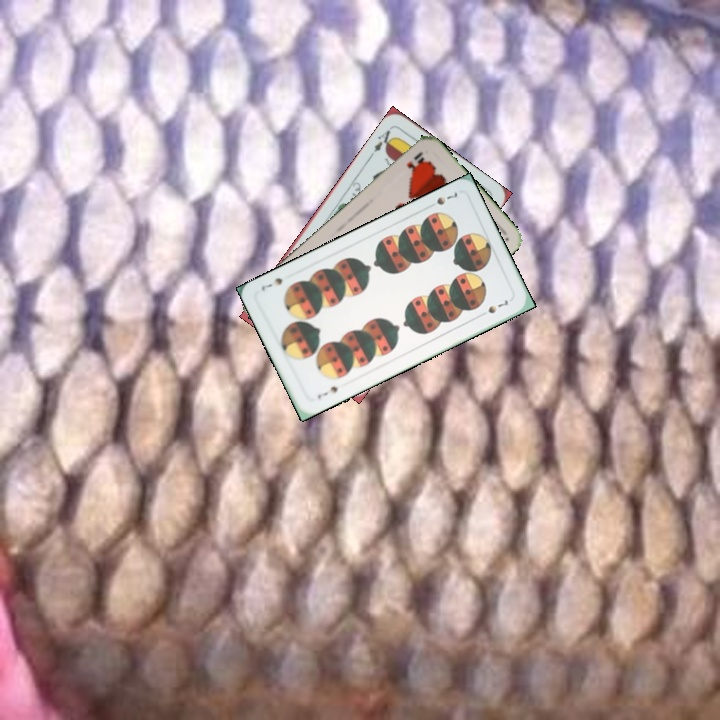EA: (369, 126, 397, 155)
HO: (402, 147, 427, 174)
S7: (432, 188, 460, 208), (313, 382, 341, 401)
